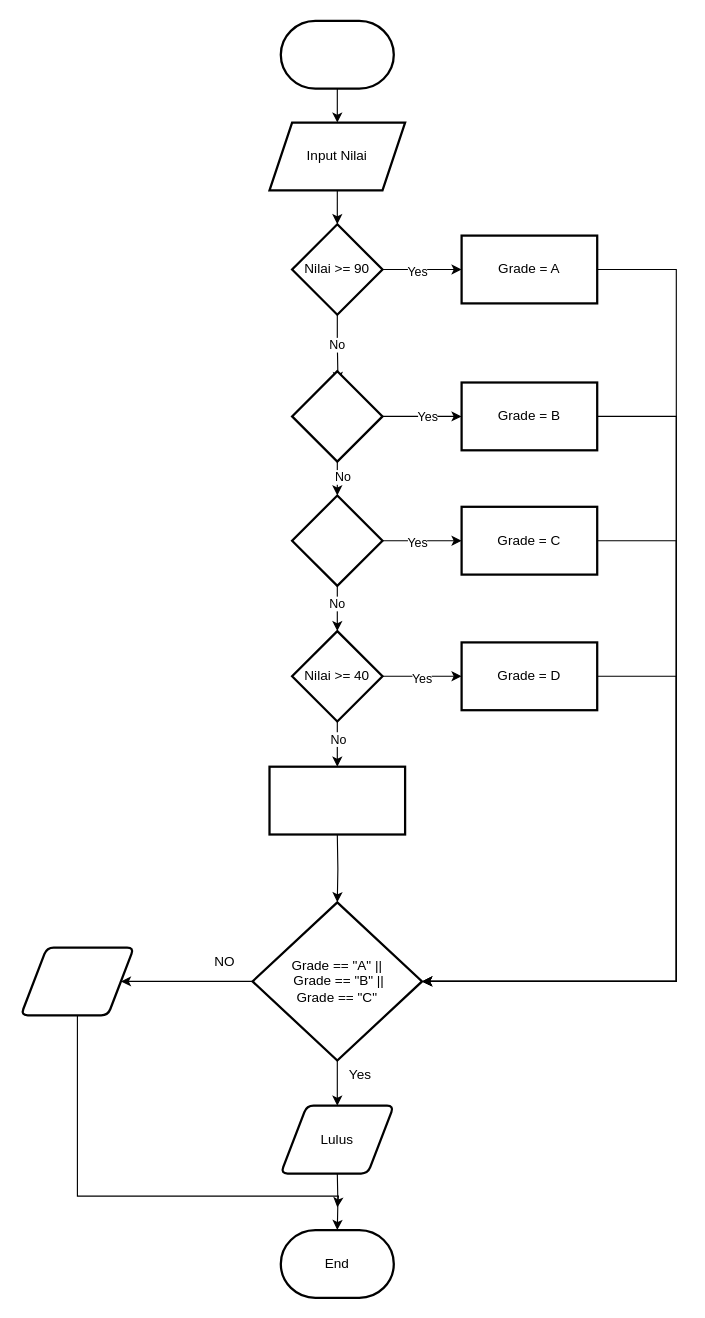
Some shapes in this 705 by 1318 pixel diagram are drawn without their labels. The shapes that lost their labels are listed below. From the top down, each one's centre as x and y in pixels, then its label:
At pixel 336 54: "Start".
At pixel 336 416: "Nilai >= 70".
At pixel 336 540: "Nilai >= 50".
At pixel 337 800: "Grade = E".
At pixel 76 981: "Tidak LuLus".
